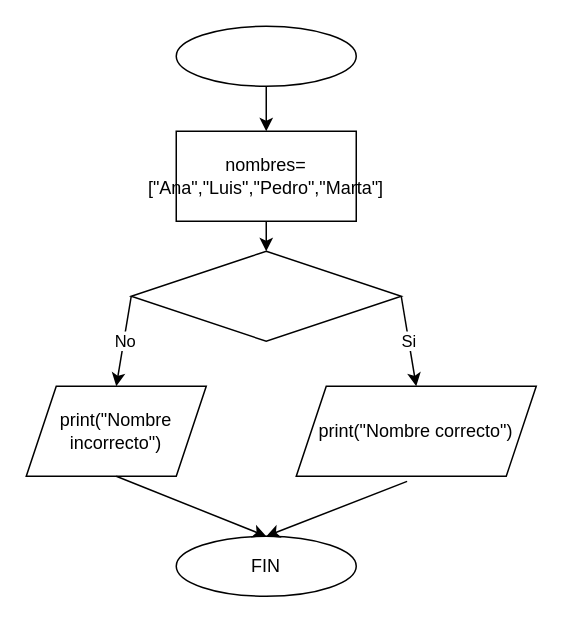
This 563x623 diagram has some shape labels left out. Each missing label, with the centre of its shape:
if nombres[-1]=="Marta":: pixel 265 295
INICIO: pixel 265 55
